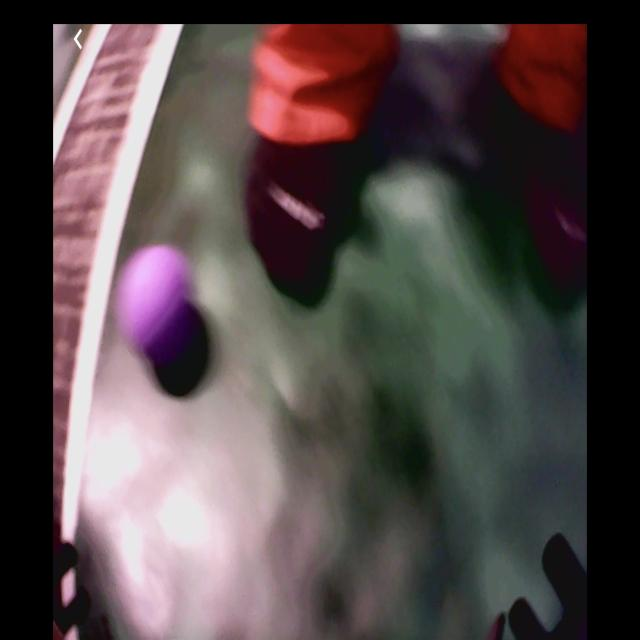ball: (118, 246, 194, 364)
